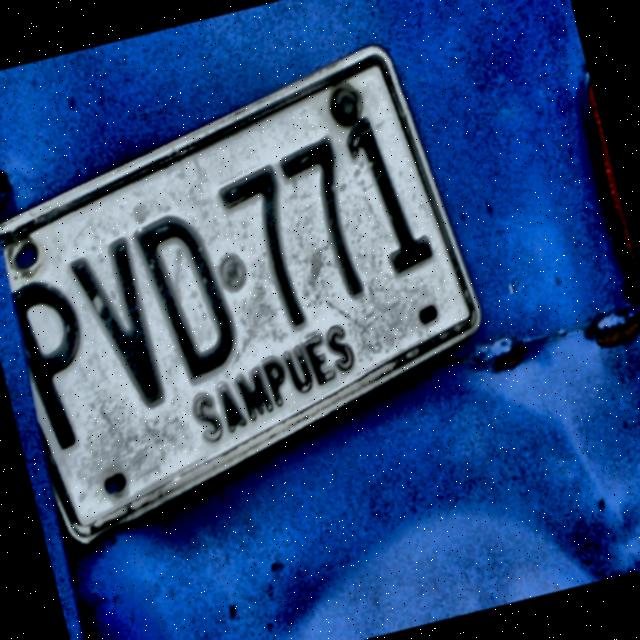plate: (0, 44, 479, 546)
